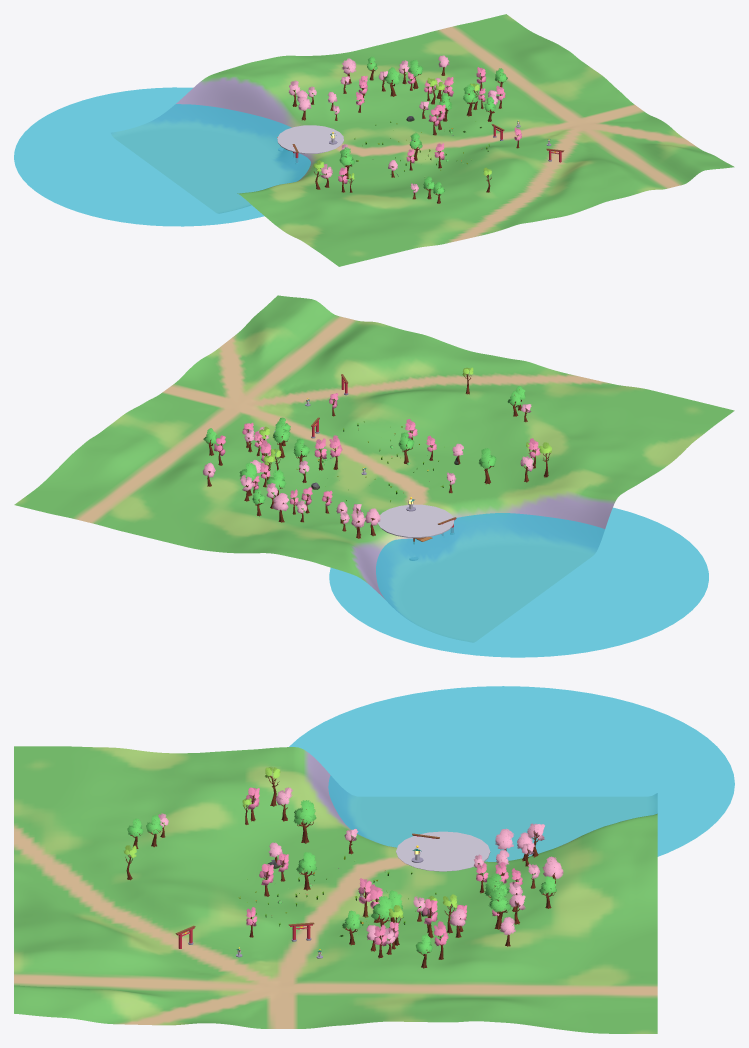
Rendered from act2.glb.
3 renders of one model, top to bottom at view 1: azimuth 30°, elevation 25°; view 2: azimuth 150°, elevation 25°; view 3: azimuth 270°, elevation 25°, orthographic. The views are drawn at different scales.
Parts seen in each view (by area): view 1: Ground, Mirror Lake, Lake Dais; view 2: Ground, Mirror Lake, Lake Dais; view 3: Ground, Mirror Lake, Lake Dais.
Part boxes in pixels (x1,y1,x2,y2): Ground: (111, 14, 734, 266); Mirror Lake: (14, 87, 310, 226); Lake Dais: (277, 125, 343, 154); Ground: (14, 295, 734, 642); Mirror Lake: (329, 507, 708, 657); Lake Dais: (377, 504, 454, 537); Ground: (14, 746, 657, 1033); Mirror Lake: (289, 686, 734, 861); Lake Dais: (396, 831, 490, 871).
Bounding box in the file's own units: 199 × 21.07 × 168.
24 materials, 11 textured.
